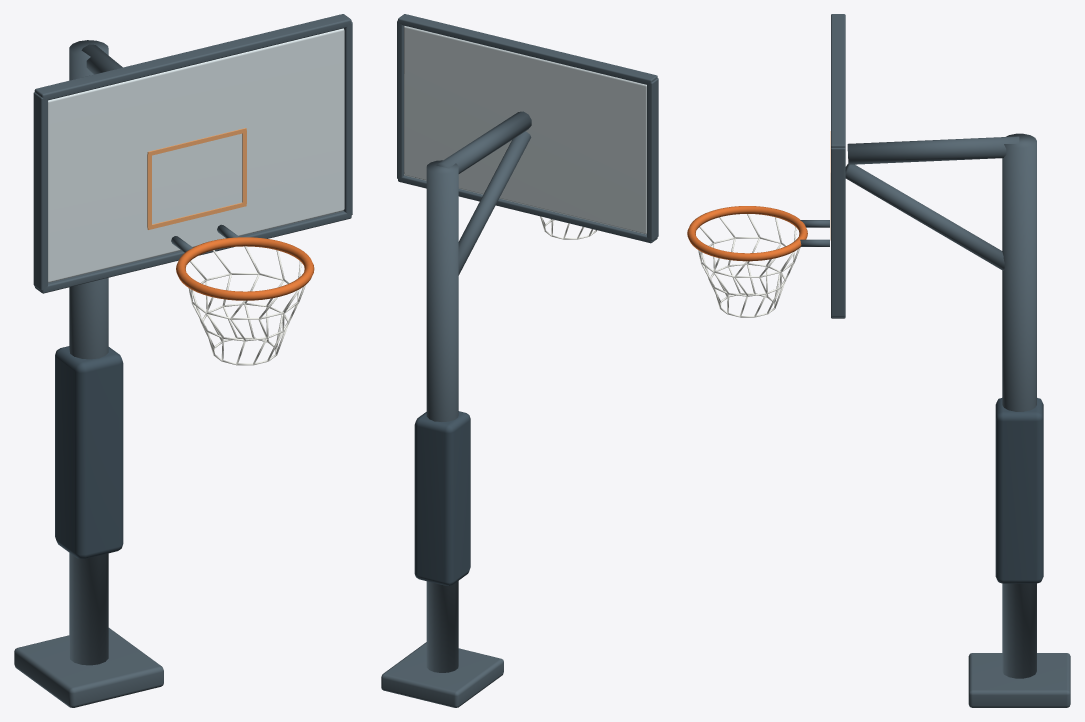
The model's file is street-hoop.glb.
The picture shows the model from 3 angles, left to right: view 1: azimuth 30°, elevation 25°; view 2: azimuth 150°, elevation 25°; view 3: azimuth 270°, elevation 25°; orthographic projection. The views are drawn at different scales.
Visible parts, largest first — view 1: Backboard, Post safety padding, Main steel post, Ground base, Backboard top or bottom frame, BasketNet, Steel rim, Backboard side frame.001, Backboard top or bottom frame.001, Backboard side frame, Upper support, Target square horizontal.001; view 2: Backboard, Main steel post, Post safety padding, Ground base, Backboard top or bottom frame, Diagonal support, Upper support, Backboard side frame.001, Backboard top or bottom frame.001, Backboard side frame; view 3: Main steel post, Post safety padding, Ground base, Upper support, Diagonal support, Backboard side frame, BasketNet, Steel rim, Backboard top or bottom frame.
Boxes of the visible parts, box(x1,y1,x2,y2) form: Backboard: box(48, 28, 344, 282); Post safety padding: box(55, 346, 123, 558); Main steel post: box(69, 40, 108, 665); Ground base: box(14, 628, 163, 707); Backboard top or bottom frame: box(34, 14, 351, 100); BasketNet: box(188, 246, 305, 365); Steel rim: box(176, 237, 314, 300); Backboard side frame.001: box(33, 92, 47, 290); Backboard top or bottom frame.001: box(34, 211, 351, 293); Backboard side frame: box(343, 22, 352, 215); Upper support: box(81, 44, 122, 74); Target square horizontal.001: box(147, 128, 246, 156); Backboard: box(404, 26, 646, 234); Main steel post: box(426, 160, 458, 672); Post safety padding: box(414, 411, 470, 585); Ground base: box(381, 642, 503, 707); Backboard top or bottom frame: box(398, 14, 657, 84); Diagonal support: box(458, 131, 531, 275); Upper support: box(436, 111, 531, 173); Backboard side frame.001: box(647, 78, 658, 240); Backboard top or bottom frame.001: box(398, 175, 657, 243); Backboard side frame: box(397, 20, 404, 178); Main steel post: box(1002, 133, 1036, 678); Post safety padding: box(995, 398, 1043, 583); Ground base: box(968, 653, 1070, 707); Upper support: box(847, 136, 1019, 164); Diagonal support: box(845, 164, 1004, 270); Backboard side frame: box(831, 148, 845, 316); BasketNet: box(698, 214, 800, 317); Steel rim: box(687, 206, 807, 261); Backboard top or bottom frame: box(831, 14, 845, 147).
Size of the model in its own units: 1.91 by 4.08 by 2.33.
